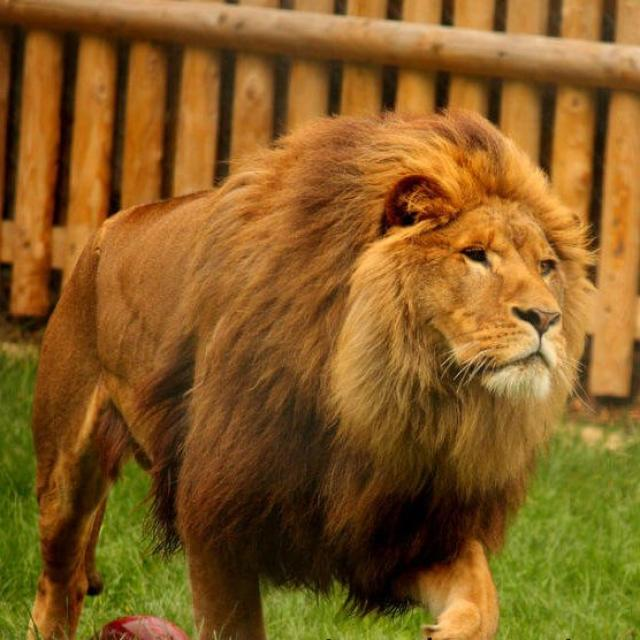Lion: (29, 112, 594, 639)
